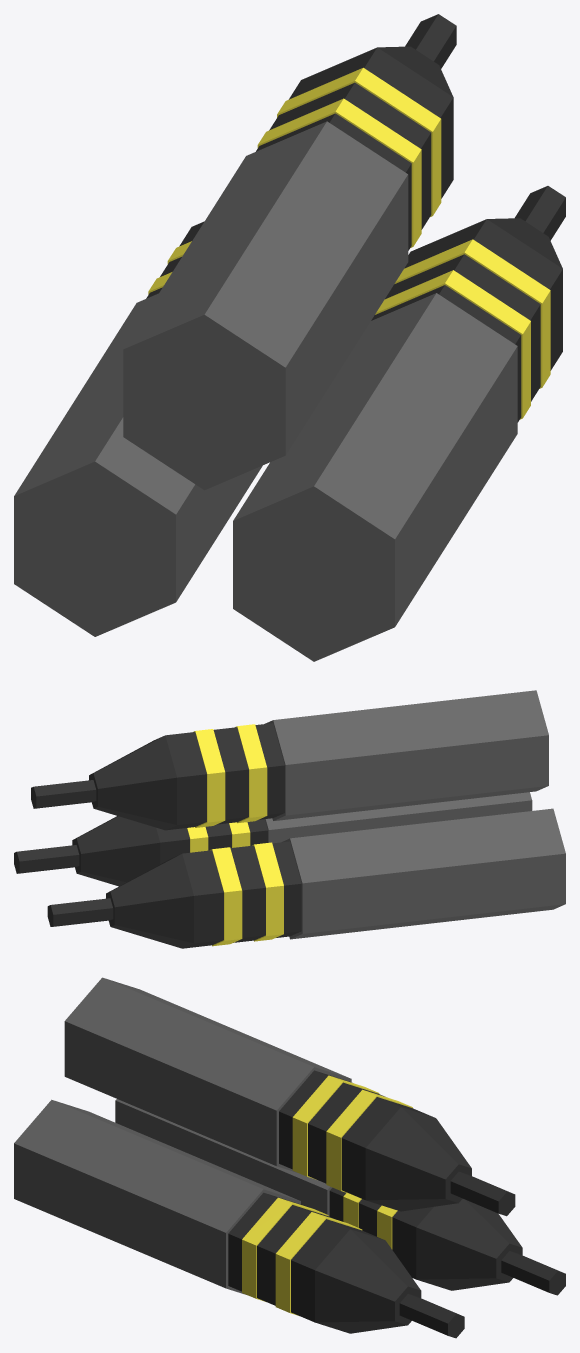
The model's file is ce_ammo2_rcl84heat_heat_b.obj.
3 renders of one model, top to bottom at view 1: azimuth 30°, elevation 25°; view 2: azimuth 150°, elevation 25°; view 3: azimuth 270°, elevation 25°, orthographic. The views are drawn at different scales.
Visible parts, largest first — view 1: ce_ammo2_rcl84heat_heat_b_16, ce_ammo2_rcl84heat_heat_b_8, ce_ammo2_rcl84heat_heat_b_0, ce_ammo2_rcl84heat_heat_b_21, ce_ammo2_rcl84heat_heat_b_13, ce_ammo2_rcl84heat_heat_b_19, ce_ammo2_rcl84heat_heat_b_18, ce_ammo2_rcl84heat_heat_b_20, ce_ammo2_rcl84heat_heat_b_11, ce_ammo2_rcl84heat_heat_b_12, ce_ammo2_rcl84heat_heat_b_10, ce_ammo2_rcl84heat_heat_b_9 (+5 smaller); view 2: ce_ammo2_rcl84heat_heat_b_0, ce_ammo2_rcl84heat_heat_b_16, ce_ammo2_rcl84heat_heat_b_6, ce_ammo2_rcl84heat_heat_b_22, ce_ammo2_rcl84heat_heat_b_8, ce_ammo2_rcl84heat_heat_b_14, ce_ammo2_rcl84heat_heat_b_5, ce_ammo2_rcl84heat_heat_b_21, ce_ammo2_rcl84heat_heat_b_3, ce_ammo2_rcl84heat_heat_b_19, ce_ammo2_rcl84heat_heat_b_4, ce_ammo2_rcl84heat_heat_b_20 (+12 smaller); view 3: ce_ammo2_rcl84heat_heat_b_16, ce_ammo2_rcl84heat_heat_b_8, ce_ammo2_rcl84heat_heat_b_22, ce_ammo2_rcl84heat_heat_b_14, ce_ammo2_rcl84heat_heat_b_6, ce_ammo2_rcl84heat_heat_b_0, ce_ammo2_rcl84heat_heat_b_21, ce_ammo2_rcl84heat_heat_b_13, ce_ammo2_rcl84heat_heat_b_19, ce_ammo2_rcl84heat_heat_b_11, ce_ammo2_rcl84heat_heat_b_20, ce_ammo2_rcl84heat_heat_b_12 (+12 smaller).
Part boxes in pixels (x1,y1,x2,y2): ce_ammo2_rcl84heat_heat_b_16: (123, 121, 408, 490); ce_ammo2_rcl84heat_heat_b_8: (233, 293, 517, 661); ce_ammo2_rcl84heat_heat_b_0: (14, 293, 262, 636); ce_ammo2_rcl84heat_heat_b_21: (289, 47, 453, 198); ce_ammo2_rcl84heat_heat_b_13: (404, 219, 562, 370); ce_ammo2_rcl84heat_heat_b_19: (269, 82, 431, 229); ce_ammo2_rcl84heat_heat_b_18: (257, 98, 421, 247); ce_ammo2_rcl84heat_heat_b_20: (277, 67, 441, 216); ce_ammo2_rcl84heat_heat_b_11: (385, 254, 540, 401); ce_ammo2_rcl84heat_heat_b_12: (394, 239, 550, 388); ce_ammo2_rcl84heat_heat_b_10: (375, 270, 530, 419); ce_ammo2_rcl84heat_heat_b_9: (371, 285, 521, 422); ce_ammo2_rcl84heat_heat_b_0: (282, 808, 565, 939); ce_ammo2_rcl84heat_heat_b_16: (265, 690, 548, 820); ce_ammo2_rcl84heat_heat_b_6: (106, 854, 193, 948); ce_ammo2_rcl84heat_heat_b_22: (89, 735, 176, 830); ce_ammo2_rcl84heat_heat_b_8: (265, 792, 532, 843); ce_ammo2_rcl84heat_heat_b_14: (72, 816, 160, 886); ce_ammo2_rcl84heat_heat_b_5: (182, 850, 223, 948); ce_ammo2_rcl84heat_heat_b_21: (165, 732, 206, 830); ce_ammo2_rcl84heat_heat_b_3: (230, 845, 265, 942); ce_ammo2_rcl84heat_heat_b_19: (213, 727, 248, 824); ce_ammo2_rcl84heat_heat_b_4: (210, 847, 242, 946); ce_ammo2_rcl84heat_heat_b_20: (193, 729, 225, 827); ce_ammo2_rcl84heat_heat_b_16: (64, 977, 351, 1172); ce_ammo2_rcl84heat_heat_b_8: (14, 1099, 300, 1294); ce_ammo2_rcl84heat_heat_b_22: (365, 1107, 471, 1211); ce_ammo2_rcl84heat_heat_b_14: (315, 1229, 421, 1333); ce_ammo2_rcl84heat_heat_b_6: (416, 1199, 522, 1290); ce_ammo2_rcl84heat_heat_b_0: (115, 1099, 332, 1216); ce_ammo2_rcl84heat_heat_b_21: (341, 1097, 434, 1199); ce_ammo2_rcl84heat_heat_b_13: (291, 1219, 383, 1322); ce_ammo2_rcl84heat_heat_b_19: (308, 1082, 385, 1183); ce_ammo2_rcl84heat_heat_b_11: (257, 1205, 335, 1305); ce_ammo2_rcl84heat_heat_b_20: (326, 1089, 412, 1193); ce_ammo2_rcl84heat_heat_b_12: (275, 1212, 362, 1315).
Size of the model in its own units: 0.7696 by 0.326 by 0.7696.
